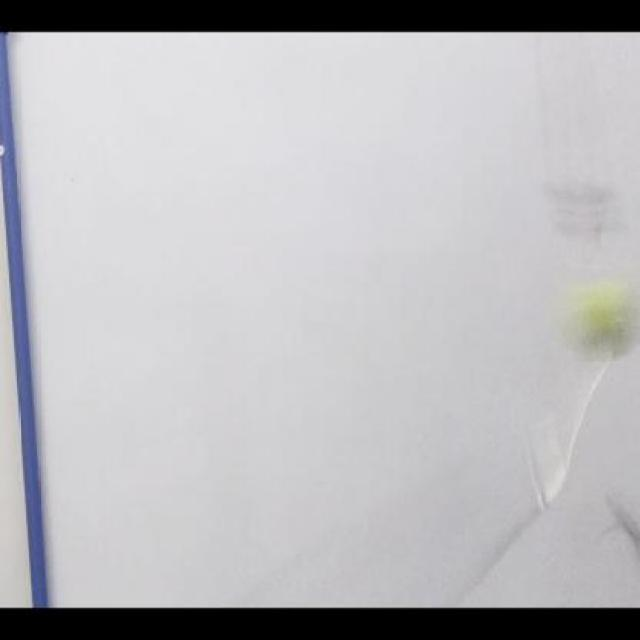baseball: (575, 276, 634, 361)
